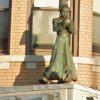Statue: (36, 3, 78, 84)
